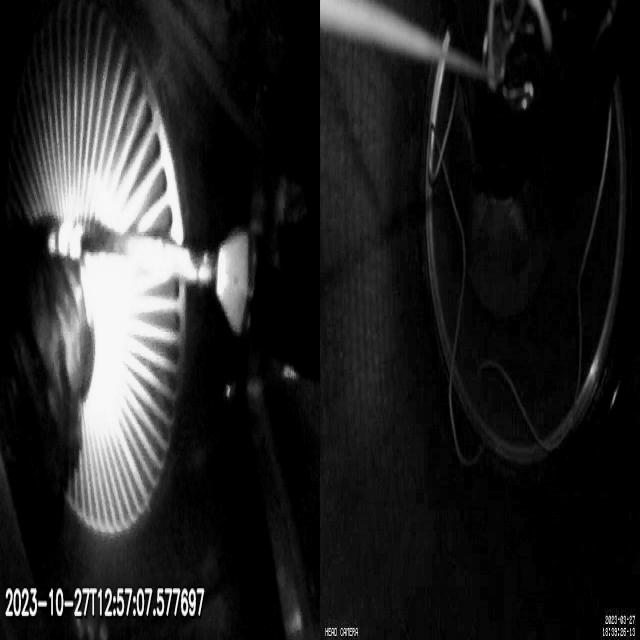head: (216, 228, 249, 333)
white-dots: (48, 220, 82, 260)
